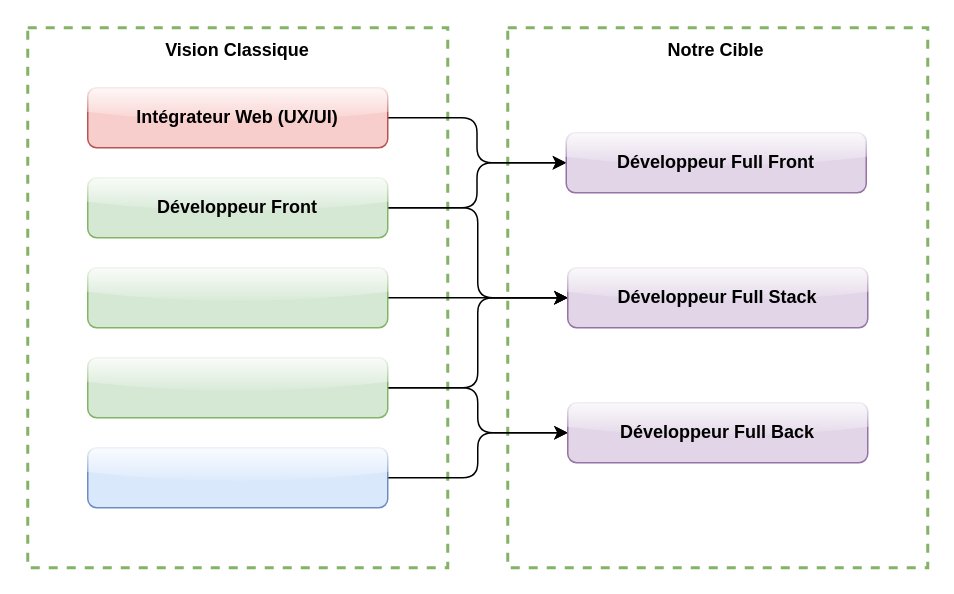
The diagram is 954 pixels wide and 594 high, and some of its shapes have lost their labels. Here are the shapes that lost their labels. From the top down, the centre of each, then its label:
At (x=237, y=297): "Intégrateur Mobile".
At (x=237, y=387): "Développeur Back".
At (x=237, y=477): "Développeur Infra (SRE)".
